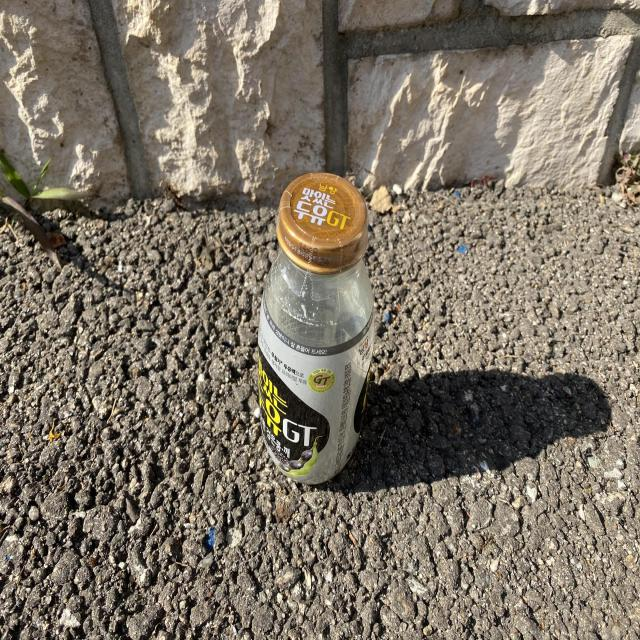glass: (258, 172, 374, 485)
